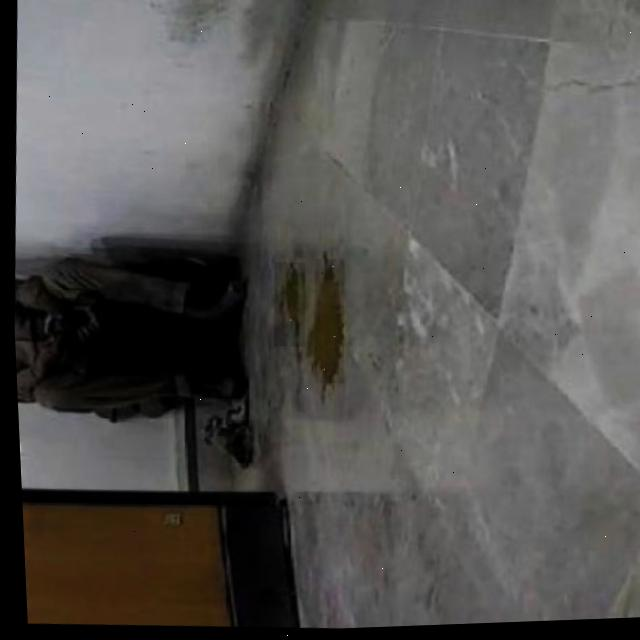spillage: (311, 261, 339, 386), (270, 265, 301, 349)
